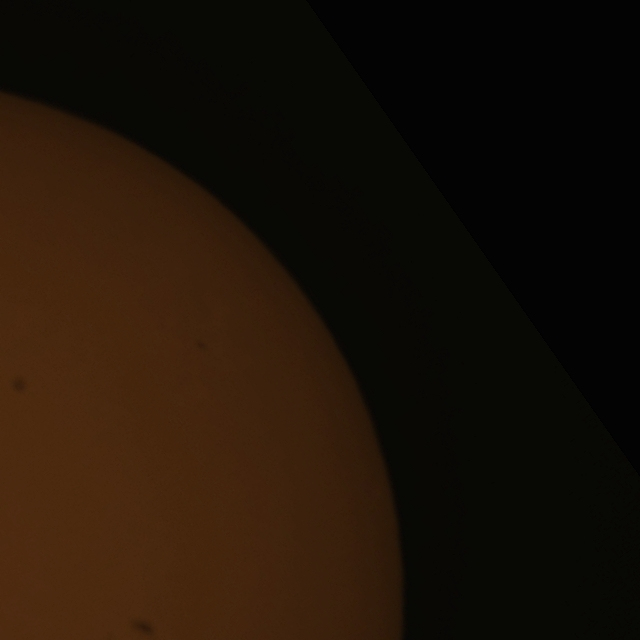sunspot: (117, 602, 167, 640), (10, 375, 27, 394)
